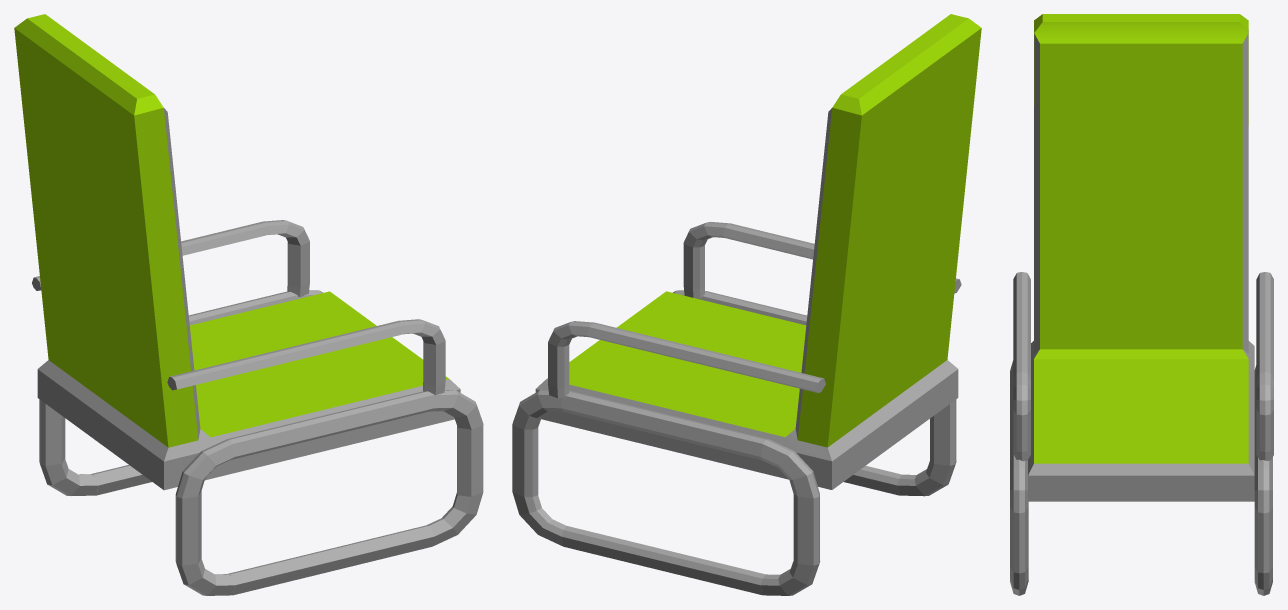
The model's file is TestChair.fbx.
3 views of the same model, side by side, from view 1: azimuth 30°, elevation 25°; view 2: azimuth 150°, elevation 25°; view 3: azimuth 270°, elevation 25° (orthographic). The views are drawn at different scales.
Visible parts, largest first — view 1: polySurface3525; view 2: polySurface3525; view 3: polySurface3525.
Part boxes in pixels (x1,y1,x2,y2): polySurface3525: (14,14,483,595); polySurface3525: (512,14,981,595); polySurface3525: (1010,14,1273,595).
Size of the model in its own units: 0.9183 by 1.3 by 0.6873.
